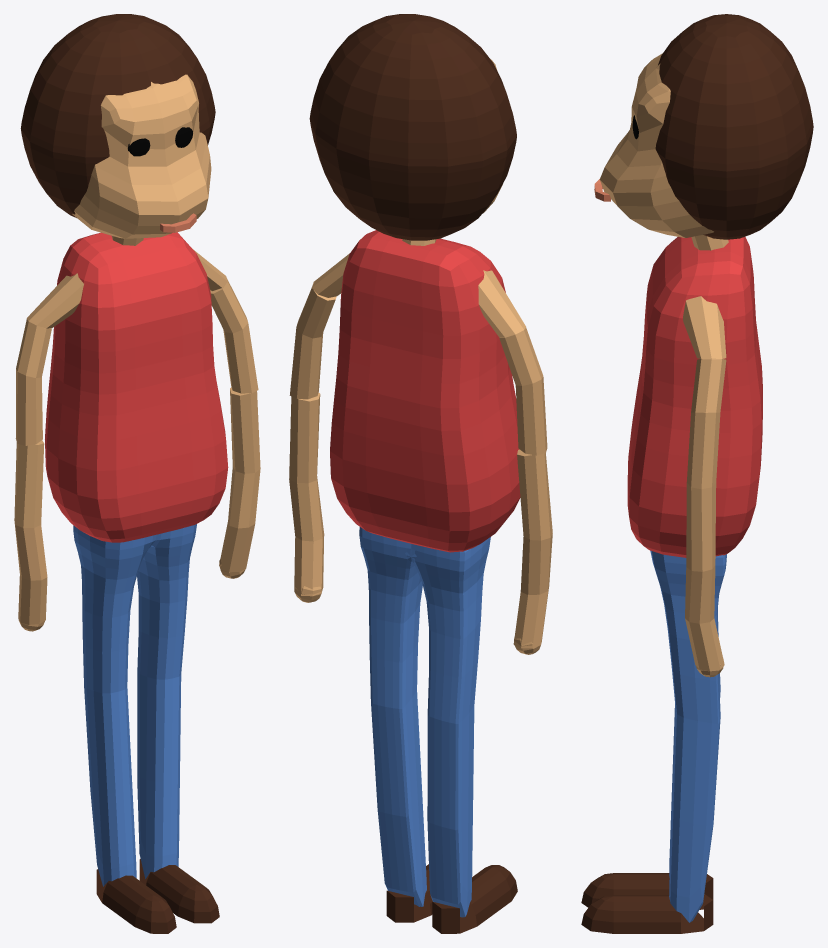
File: character_1_stand.fbx
3 renders of one model, left to right at view 1: azimuth 30°, elevation 25°; view 2: azimuth 150°, elevation 25°; view 3: azimuth 270°, elevation 25°, orthographic. The views are drawn at different scales.
Parts seen in each view (by area): view 1: body, Sphere, Face, Mollet gauche, Cuisse gauche.001, Mollet droit, Cuisse gauche, Avant bras gauche.001, Avant bras droit, Bras droit, Chaussure droite, Bras gauche (+4 smaller); view 2: body, Sphere, Cuisse gauche.001, Mollet gauche, Mollet droit, Cuisse gauche, Avant bras gauche.001, Avant bras droit, Bras droit, Chaussure droite, Bras gauche, Epaule droite (+4 smaller); view 3: body, Sphere, Face, Mollet gauche, Cuisse gauche, Chaussure gauche, Avant bras gauche.001, Bras gauche, Epaule gauche, Chaussure droite, Main gauche.
Boxes of the visible parts, x1=… form: body: x1=45, y1=232, x2=228, y2=542; Sphere: x1=20, y1=14, x2=215, y2=217; Face: x1=72, y1=74, x2=211, y2=238; Mollet gauche: x1=137, y1=673, x2=181, y2=878; Cuisse gauche.001: x1=73, y1=525, x2=156, y2=693; Mollet droit: x1=84, y1=687, x2=136, y2=886; Cuisse gauche: x1=137, y1=524, x2=196, y2=679; Avant bras gauche.001: x1=228, y1=387, x2=260, y2=528; Avant bras droit: x1=14, y1=440, x2=47, y2=580; Bras droit: x1=15, y1=319, x2=51, y2=445; Chaussure droite: x1=96, y1=869, x2=176, y2=933; Bras gauche: x1=210, y1=279, x2=258, y2=393; body: x1=330, y1=230, x2=520, y2=552; Sphere: x1=309, y1=14, x2=516, y2=240; Cuisse gauche.001: x1=405, y1=537, x2=490, y2=723; Mollet gauche: x1=371, y1=690, x2=426, y2=906; Mollet droit: x1=427, y1=705, x2=474, y2=917; Cuisse gauche: x1=359, y1=527, x2=422, y2=708; Avant bras gauche.001: x1=289, y1=392, x2=324, y2=541; Avant bras droit: x1=517, y1=449, x2=552, y2=594; Bras droit: x1=499, y1=327, x2=547, y2=455; Chaussure droite: x1=432, y1=865, x2=517, y2=933; Bras gauche: x1=289, y1=281, x2=336, y2=399; Epaule droite: x1=478, y1=270, x2=525, y2=337; body: x1=627, y1=237, x2=762, y2=557; Sphere: x1=655, y1=14, x2=813, y2=239; Face: x1=599, y1=53, x2=713, y2=237; Mollet gauche: x1=669, y1=710, x2=720, y2=922; Cuisse gauche: x1=650, y1=550, x2=726, y2=723; Chaussure gauche: x1=581, y1=894, x2=713, y2=933; Avant bras gauche.001: x1=685, y1=482, x2=716, y2=623; Bras gauche: x1=687, y1=358, x2=726, y2=489; Epaule gauche: x1=683, y1=296, x2=726, y2=359; Chaussure droite: x1=581, y1=873, x2=713, y2=909; Main gauche: x1=685, y1=618, x2=724, y2=677.
Bounding box in the file's own units: 65.32 × 219 × 51.89.
